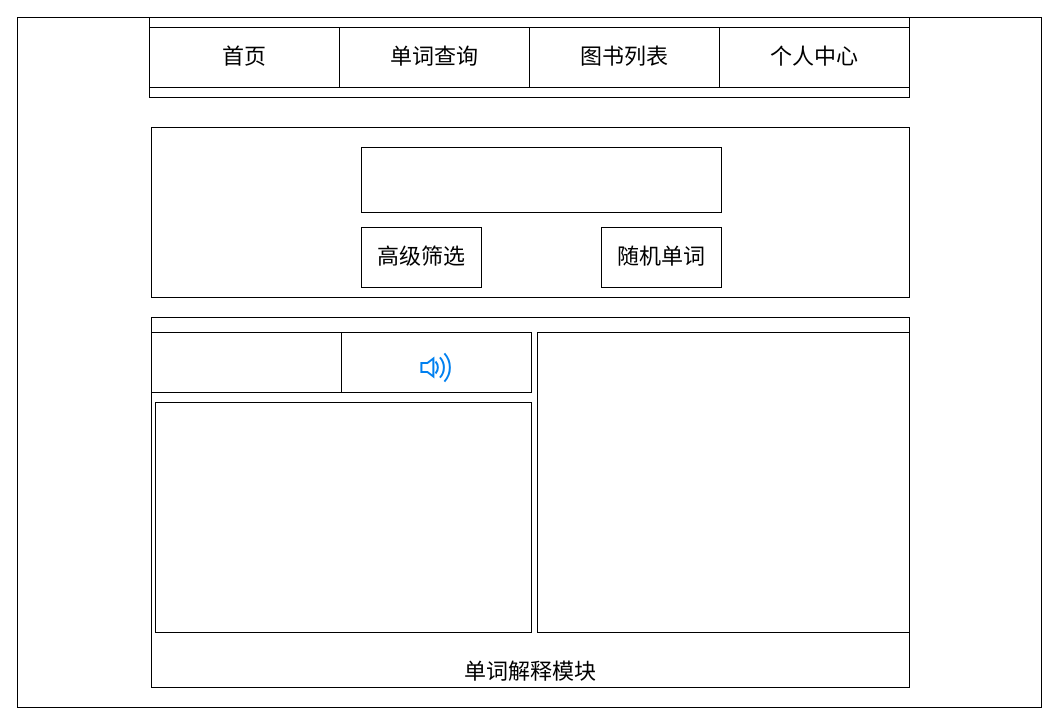
This 1059x725 diagram has some shape labels left out. The centre of each missing label's shape, as x and y in pixels:
"单词查询输入框" belongs at (x=541, y=179).
"意思解释" belongs at (x=343, y=517).
"翻译" belongs at (x=246, y=362).
"联想词" belongs at (x=723, y=482).
